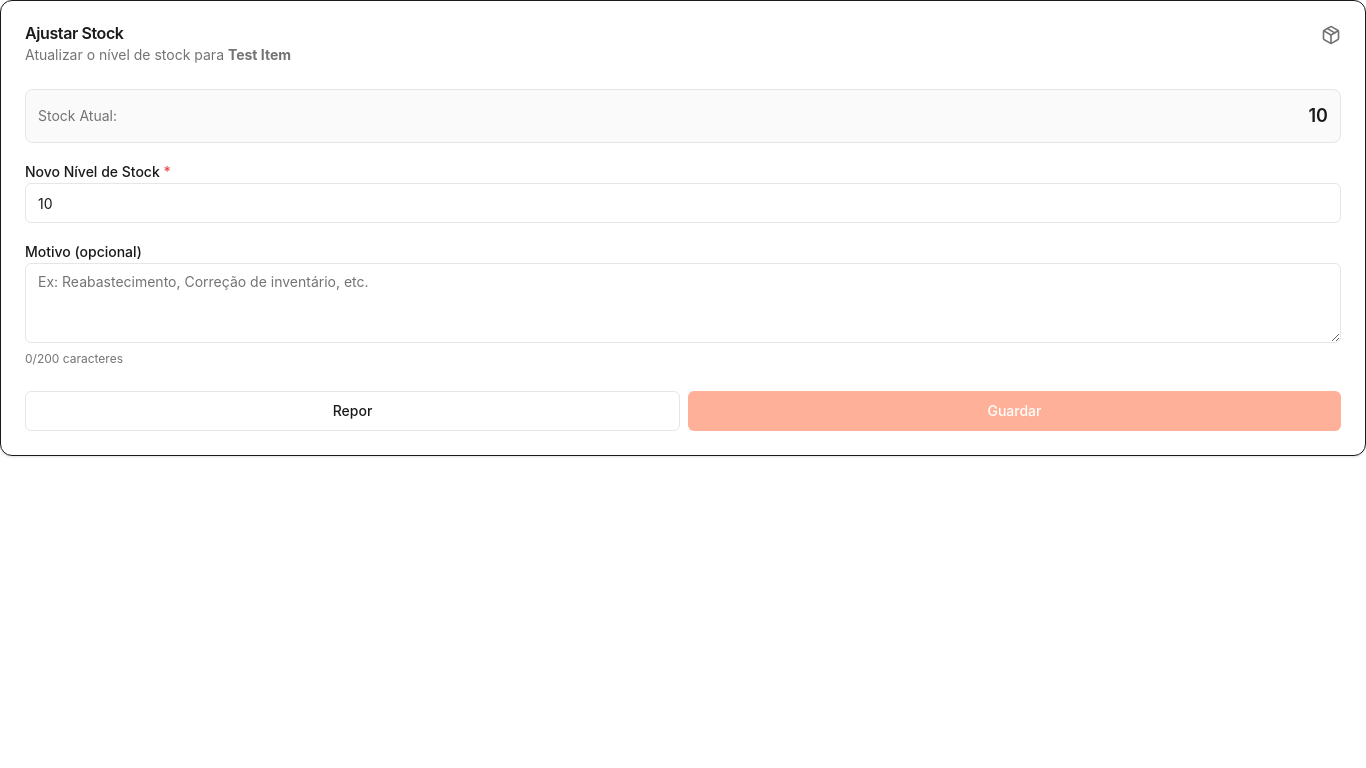
Test: StockAdjustmentForm › validates non-negative integer input
This screenshot has width=1366, height=768.
Test negative number
Replace the text in the number field labelled "Novo Nível de Stock *" with "-5" at [683, 203], box 25,183 -> 1341,223
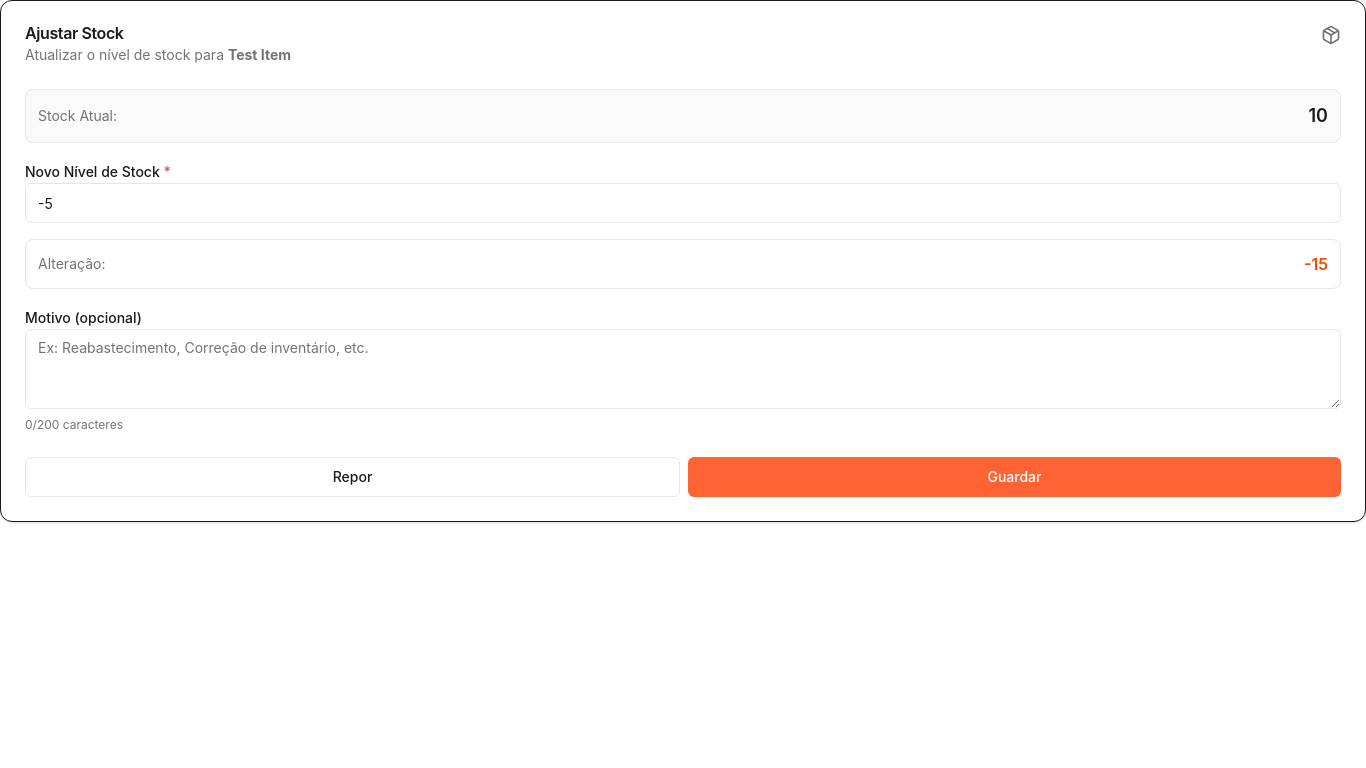
Submit the form labelled "Novo Nível de Stock", box 25,89 -> 1341,497
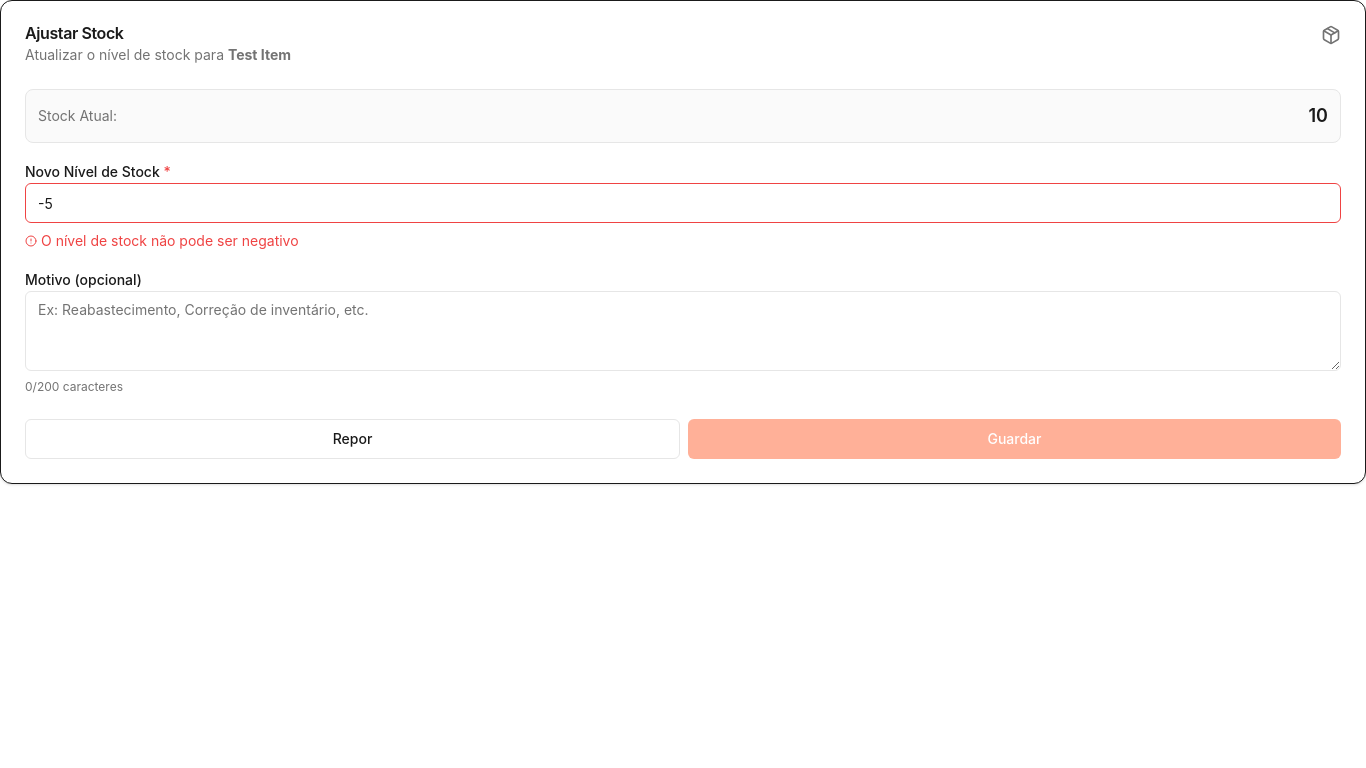
Now the text "O nível de stock não pode ser negativo" is shown, box 25,232 -> 299,249
Clear and test decimal number
Replace the text in the number field labelled "Novo Nível de Stock *" with "10.5" at [683, 203], box 25,183 -> 1341,223
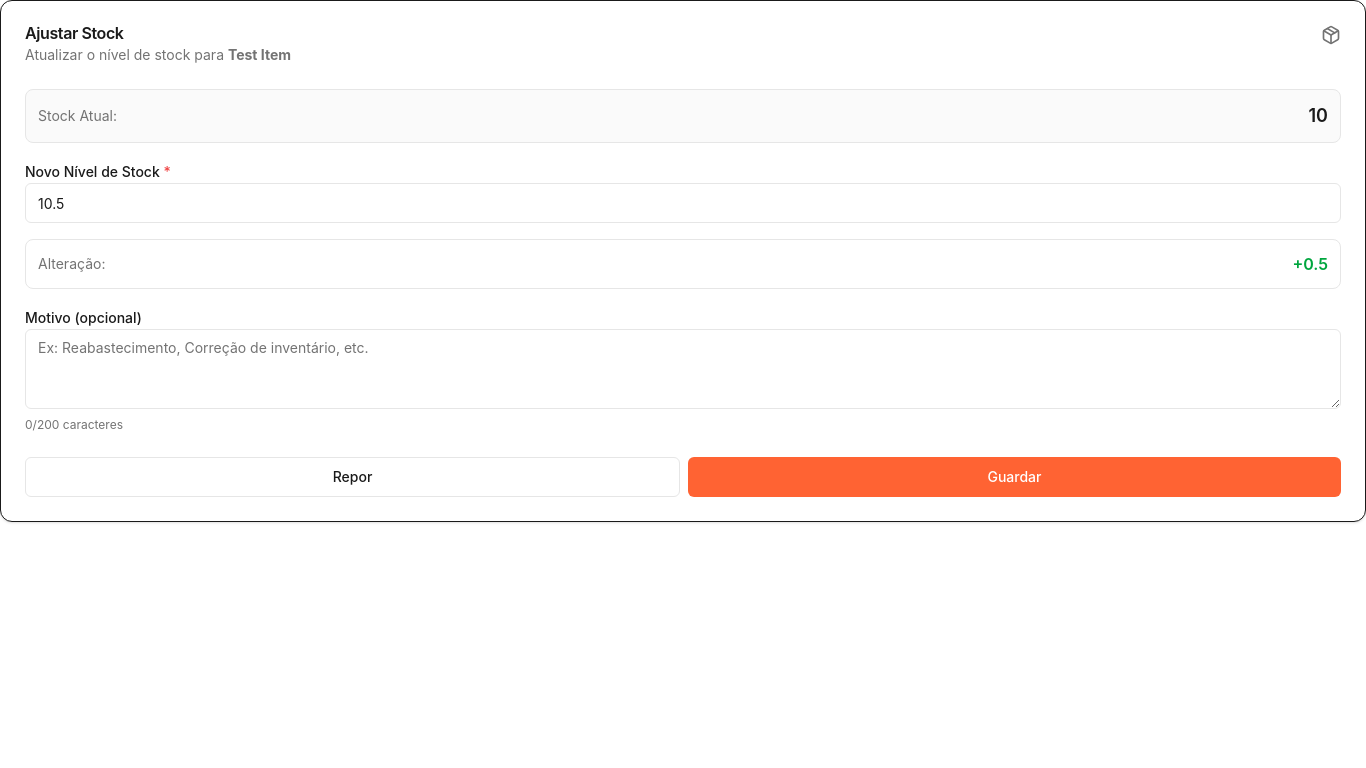
Submit the form labelled "Novo Nível de Stock", box 25,89 -> 1341,497
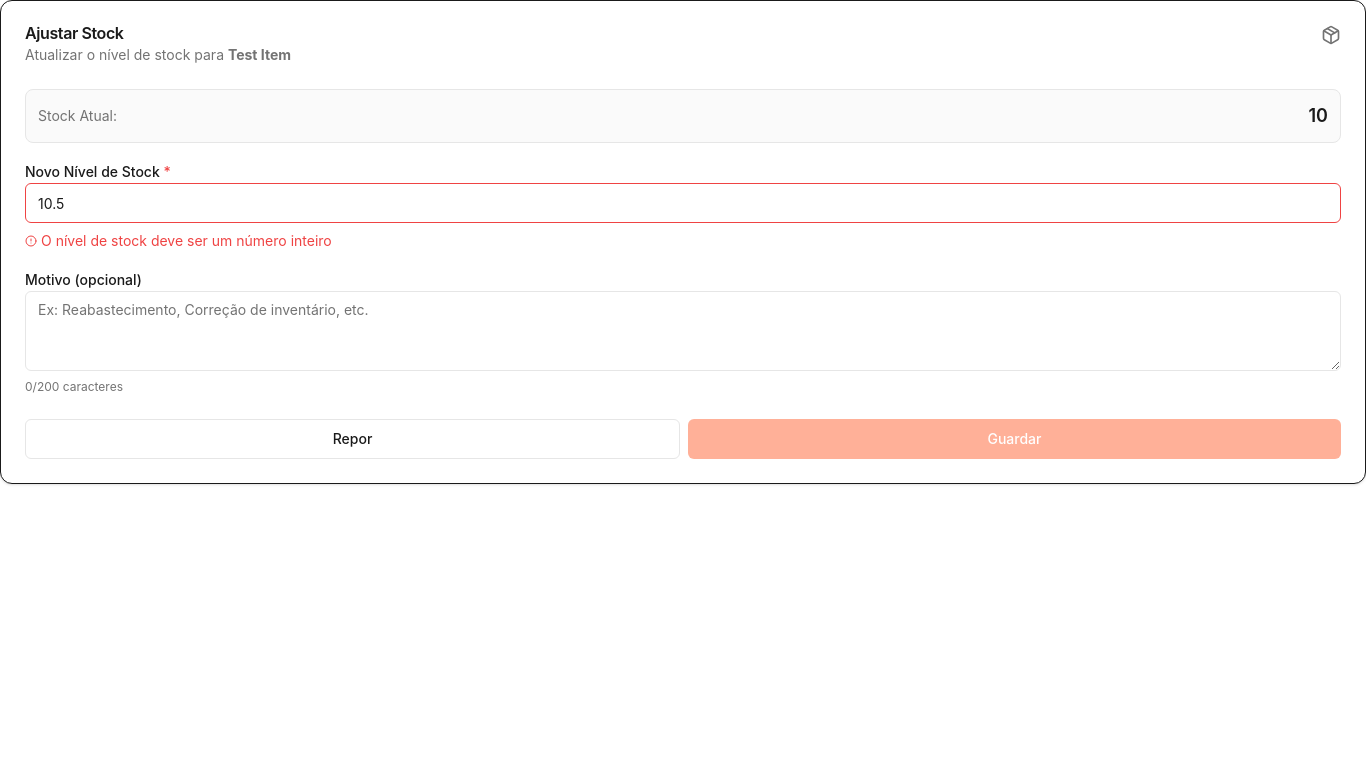
Now the text "O nível de stock deve ser um número inteiro" is shown, box 25,232 -> 332,249
